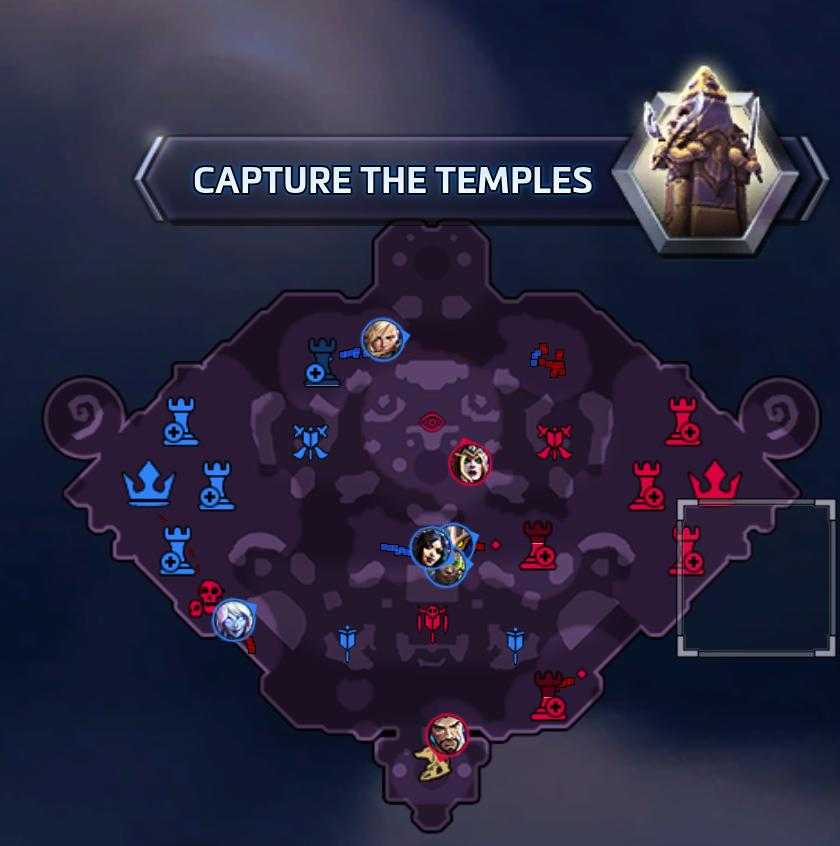blue nexus: (118, 455, 180, 511)
blue player: (360, 317, 407, 362), (212, 597, 256, 642), (424, 546, 471, 586), (410, 527, 452, 570), (440, 522, 477, 559)
blue tower: (162, 392, 203, 448), (161, 518, 198, 577), (196, 459, 237, 511), (303, 335, 341, 387)
red boss: (185, 575, 229, 619)
red nexus: (686, 458, 743, 505)
red player: (425, 712, 469, 757), (448, 439, 491, 485)
red tower: (522, 668, 576, 728), (624, 454, 670, 515), (662, 391, 709, 449), (517, 516, 558, 575), (668, 520, 704, 581)
